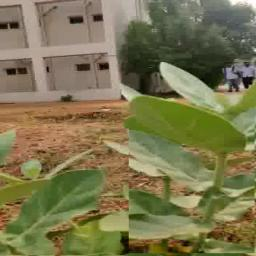Calotropis: (122, 62, 256, 254), (0, 128, 130, 255)
